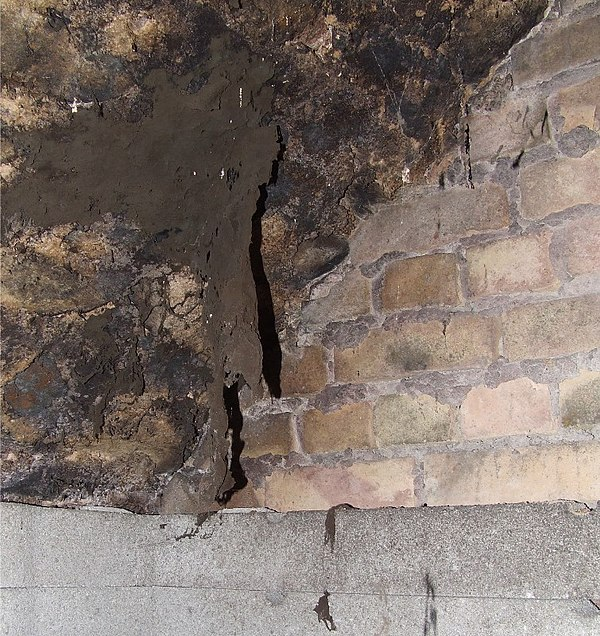Cladosporium: (17, 135, 270, 217), (178, 227, 270, 392), (144, 36, 275, 130), (200, 416, 235, 506)
